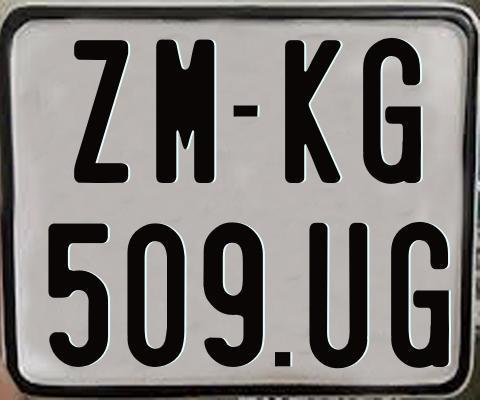0: (124, 220, 186, 370)
5: (46, 222, 107, 366)
9: (203, 220, 263, 369)
G: (363, 36, 425, 188), (389, 221, 448, 370)
K: (283, 37, 339, 182)
M: (155, 38, 216, 182)
U: (306, 223, 367, 372)
Z: (71, 40, 125, 188)
